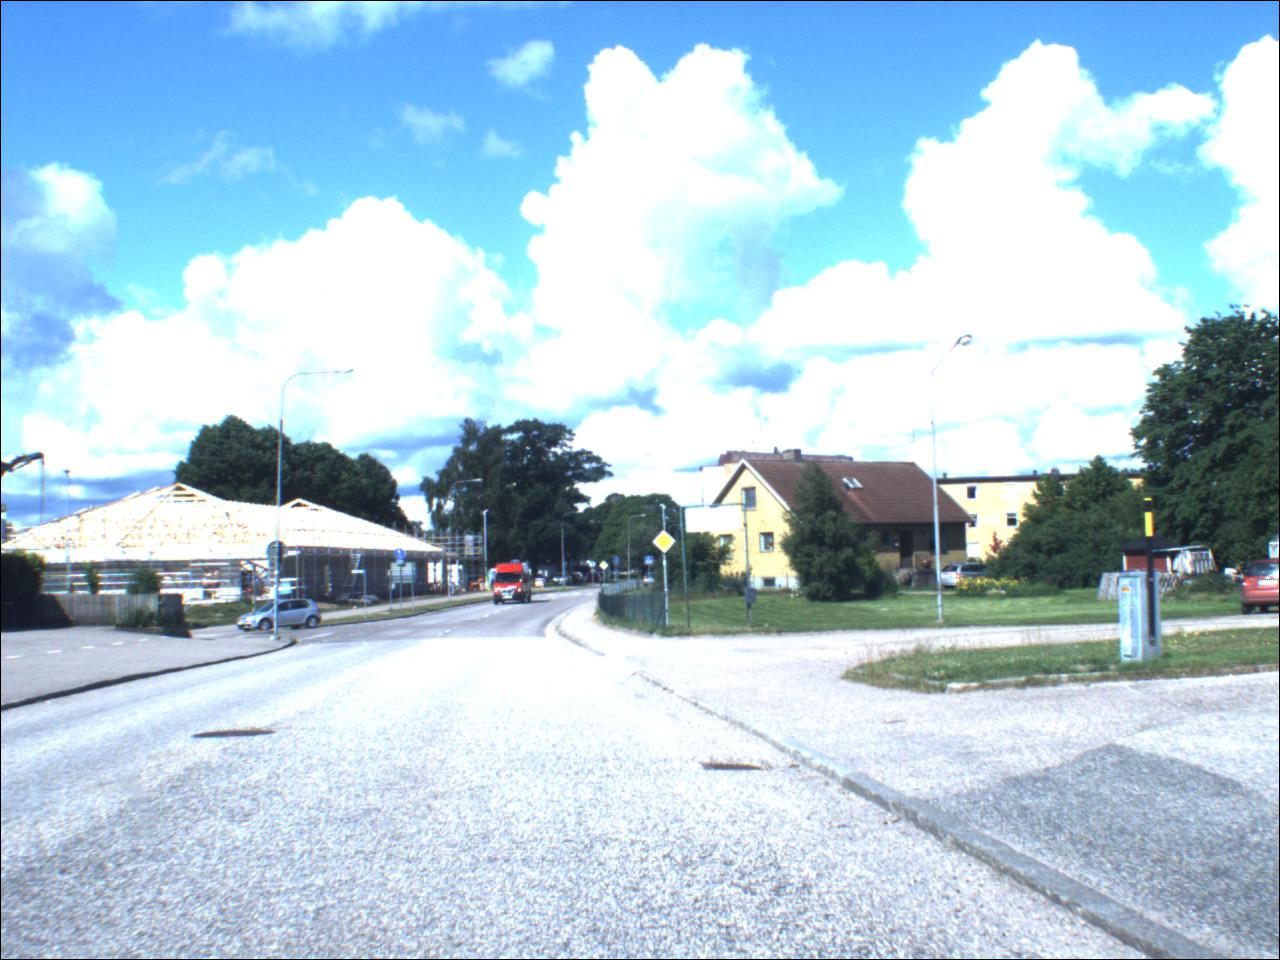PEDESTRIAN_CROSSING: (646, 557, 657, 567)
PRIORITY_ROAD: (655, 531, 679, 556), (601, 562, 611, 573)
